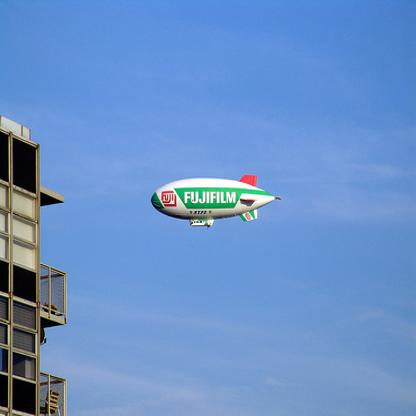Airship: (150, 173, 286, 227)
